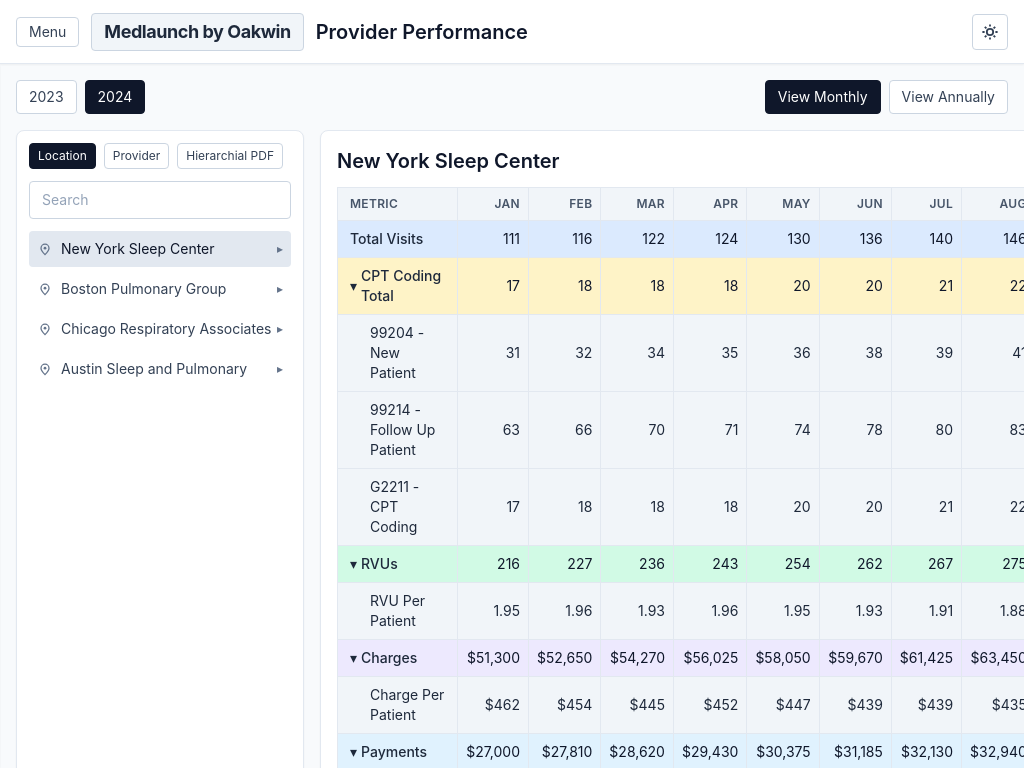
Test: clinical route renders coming soon content
The image size is (1024, 768).
Click the button with aria-label "Open menu" at (48, 32), box 16,16 -> 79,46
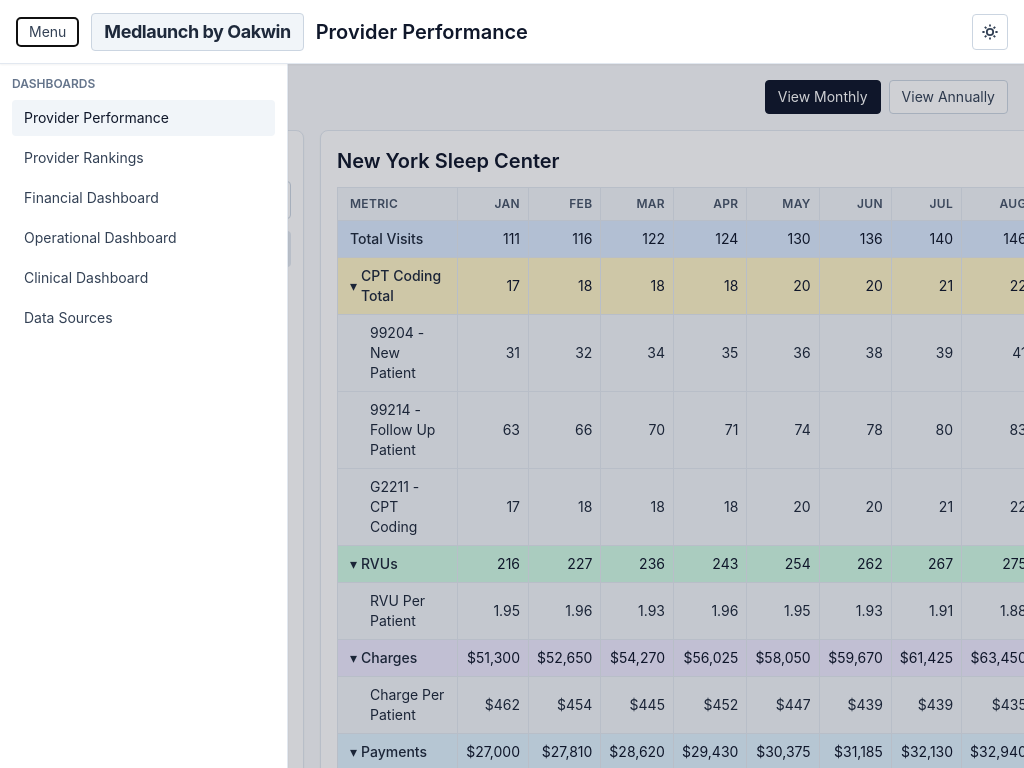
Click the link "Clinical Dashboard" at (86, 278), box 24,269 -> 148,286
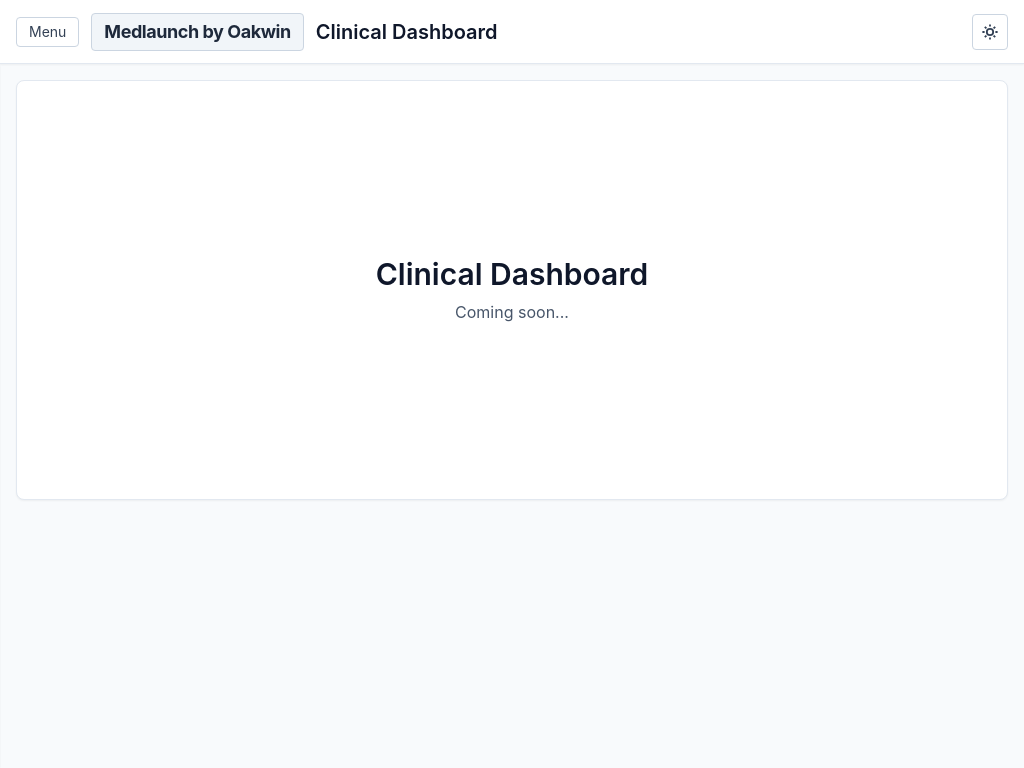
Expected: the 2nd heading "Clinical Dashboard" is shown, 376,256 -> 648,292
Expected: the text "Coming soon..." is shown, 455,302 -> 569,322
